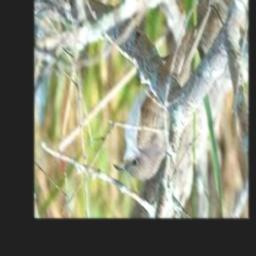Cuckoo: (113, 20, 206, 179)
